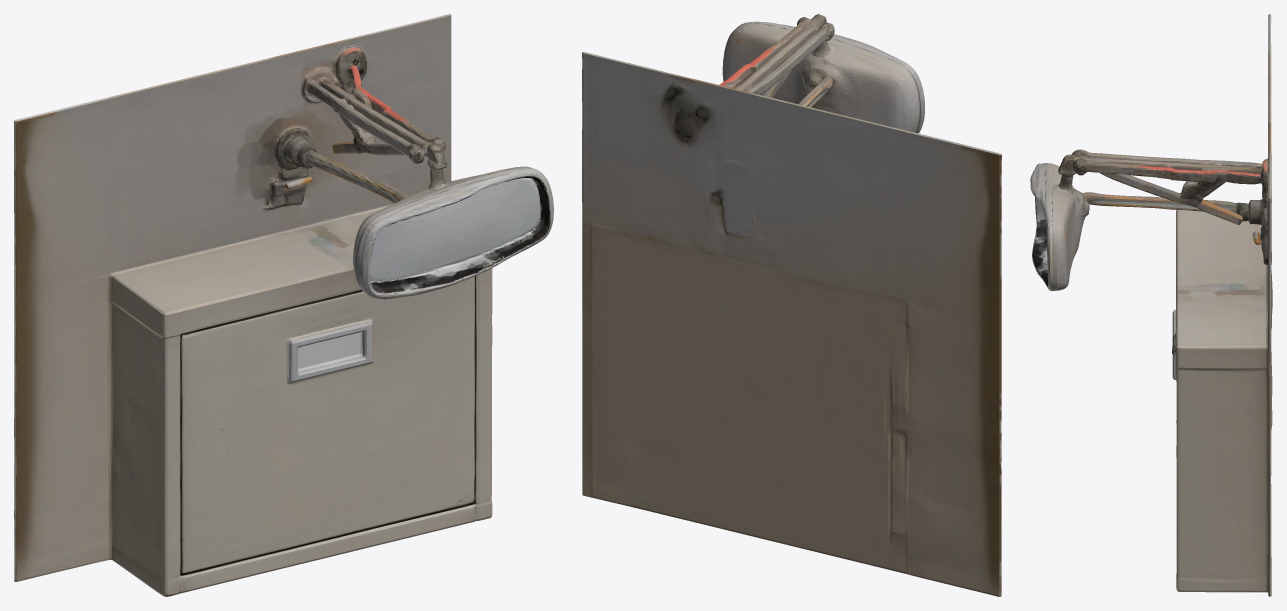
Rendered from belly (175).glb.
3 renders of one model, left to right at view 1: azimuth 30°, elevation 25°; view 2: azimuth 150°, elevation 25°; view 3: azimuth 270°, elevation 25°, orthographic. The views are drawn at different scales.
Parts seen in each view (by area): view 1: Hy21_Mesh.obj; view 2: Hy21_Mesh.obj; view 3: Hy21_Mesh.obj.
Part boxes in pixels (x1=…): Hy21_Mesh.obj: x1=14, y1=14, x2=553, y2=596; Hy21_Mesh.obj: x1=582, y1=14, x2=1001, y2=596; Hy21_Mesh.obj: x1=1030, y1=14, x2=1272, y2=596.
Size of the model in its own units: 1.94 by 1.96 by 1.07.
Materials: 1 (1 with a texture image).
